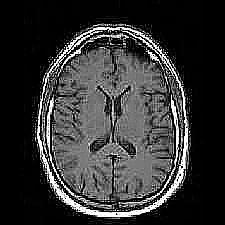Normal_Brain: (12, 14, 225, 225)
